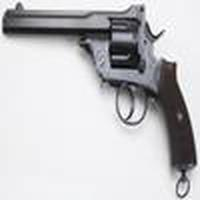gun: (6, 4, 200, 198)
